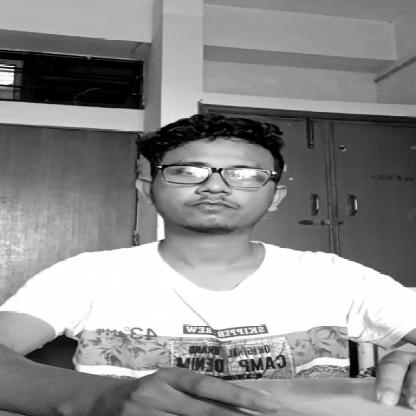Normal: (135, 117, 285, 233)
